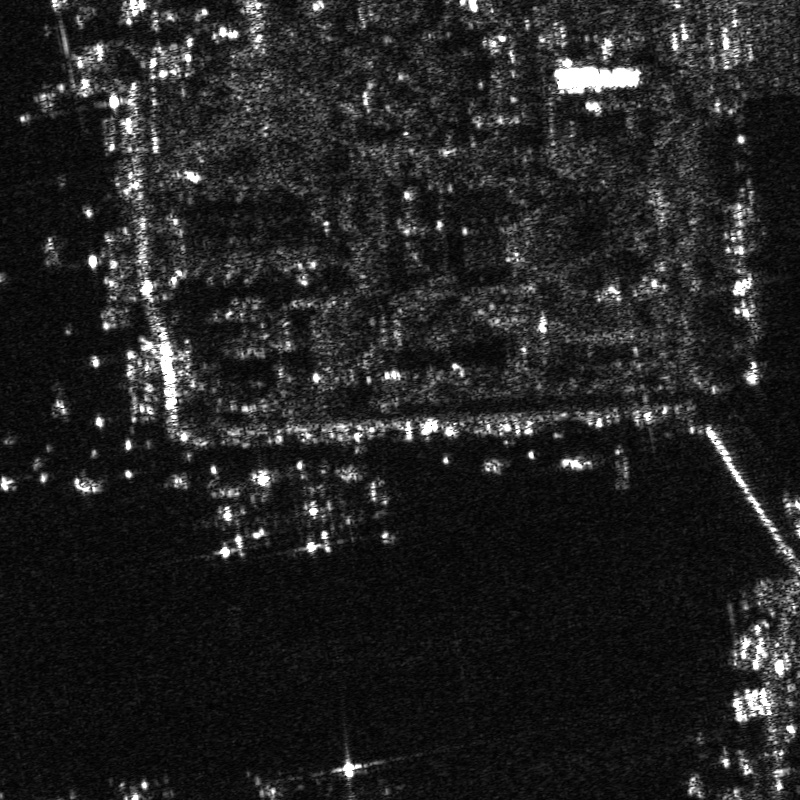ARJ21: (357, 463, 400, 545)
Boeing737: (192, 476, 280, 562)
other: (289, 472, 355, 555), (247, 774, 295, 799), (117, 778, 165, 799)
